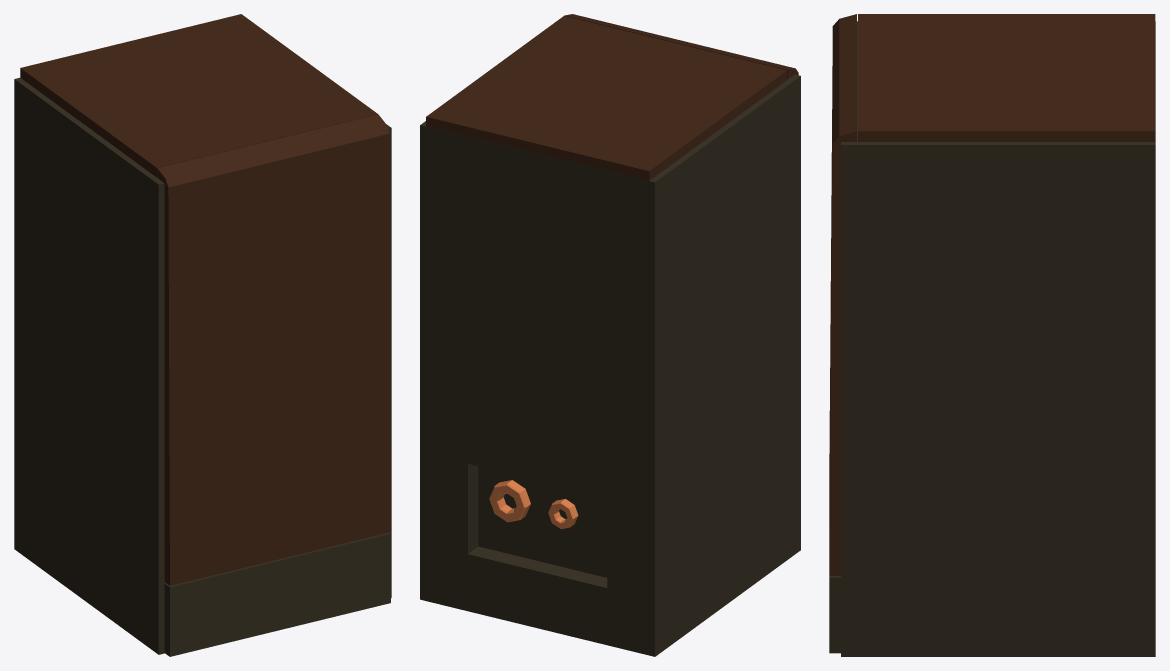
File: stereo.R.fbx
The picture shows the model from 3 angles, left to right: view 1: azimuth 30°, elevation 25°; view 2: azimuth 150°, elevation 25°; view 3: azimuth 270°, elevation 25°; orthographic projection. The views are drawn at different scales.
Visible parts, largest first — view 1: stereo.R; view 2: stereo.R; view 3: stereo.R.
Part boxes in pixels (x1=…): stereo.R: x1=14, y1=14, x2=391, y2=656; stereo.R: x1=420, y1=14, x2=800, y2=656; stereo.R: x1=829, y1=14, x2=1155, y2=656.
Bounding box in the file's own units: 16.36 × 32.23 × 18.23.
